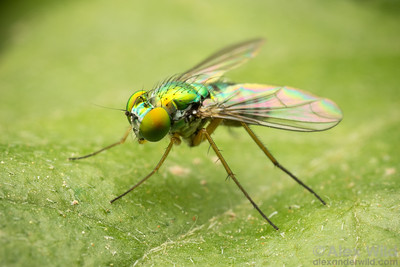phorid fly: (56, 18, 354, 244)
